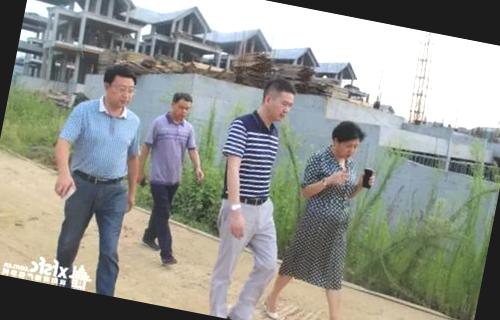no_helmet: (252, 70, 303, 132), (95, 59, 144, 112), (322, 114, 370, 168), (166, 88, 197, 124)
